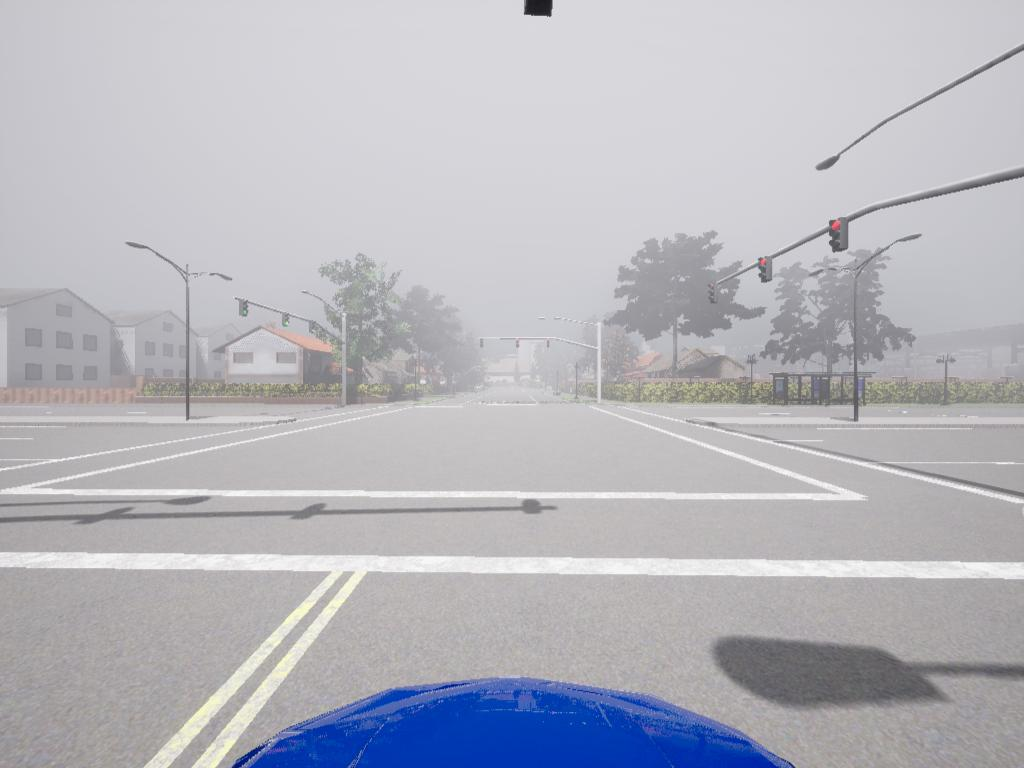traffic_light: (830, 220, 850, 254), (525, 1, 557, 17), (760, 259, 774, 284), (709, 283, 719, 307), (239, 300, 250, 319), (309, 321, 317, 337), (284, 313, 291, 330), (515, 338, 521, 350), (481, 338, 486, 352), (546, 337, 551, 351)
